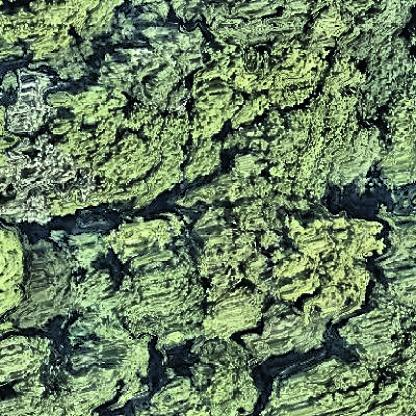tree-top: (76, 95, 193, 210), (1, 71, 78, 228), (271, 211, 385, 316), (272, 99, 382, 202), (97, 21, 211, 112), (201, 199, 272, 343), (262, 358, 416, 416), (21, 229, 120, 319), (115, 251, 209, 339), (74, 317, 162, 410), (348, 2, 416, 97), (228, 49, 331, 108), (150, 364, 265, 416), (1, 336, 74, 416), (332, 305, 416, 368), (5, 3, 101, 58), (241, 309, 333, 365), (201, 1, 314, 46), (107, 212, 193, 256), (379, 94, 416, 192), (382, 203, 416, 303), (1, 224, 30, 315), (230, 126, 274, 185), (181, 137, 233, 183)
